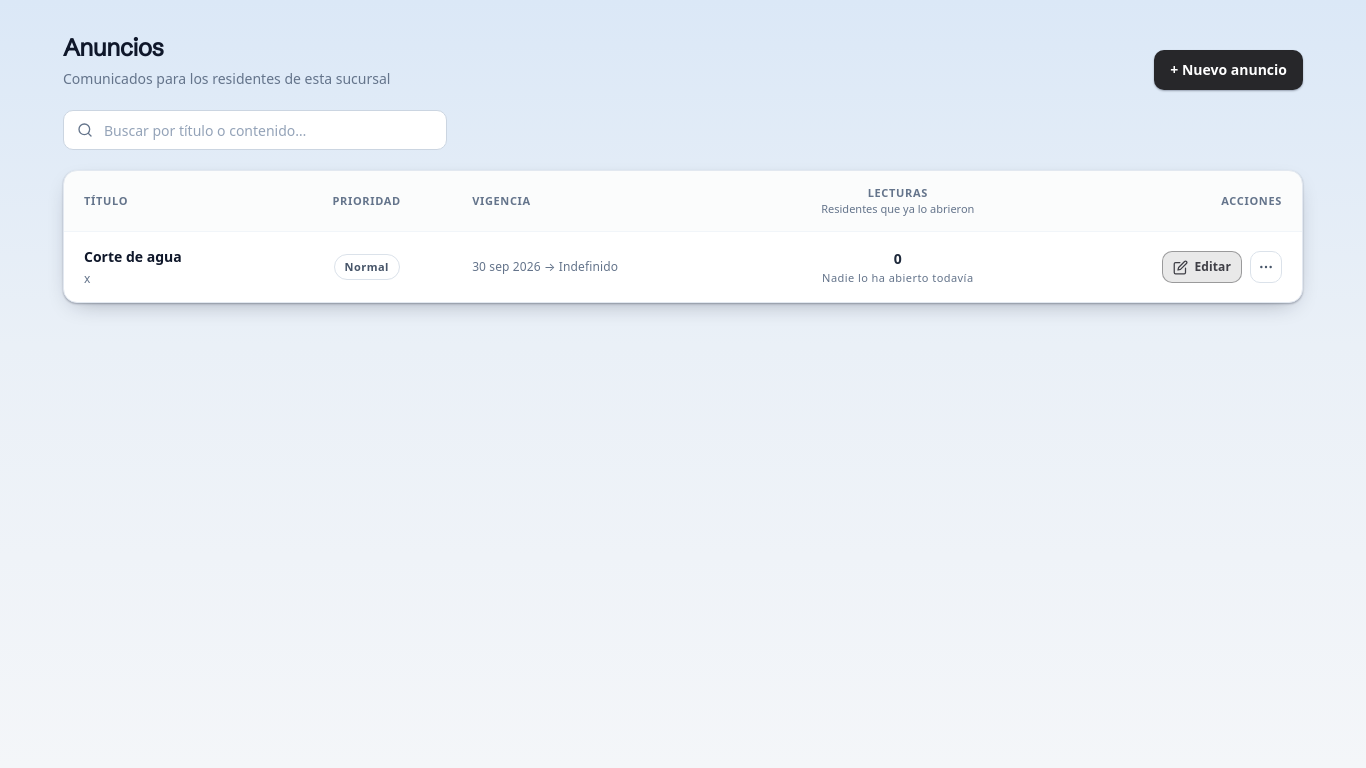
Test case: confirmaciones destructivas › Anuncios: cancelar no borra nada
Click the button named "Acciones: Corte de agua" at (1266, 267), box [1250,251,1282,283]
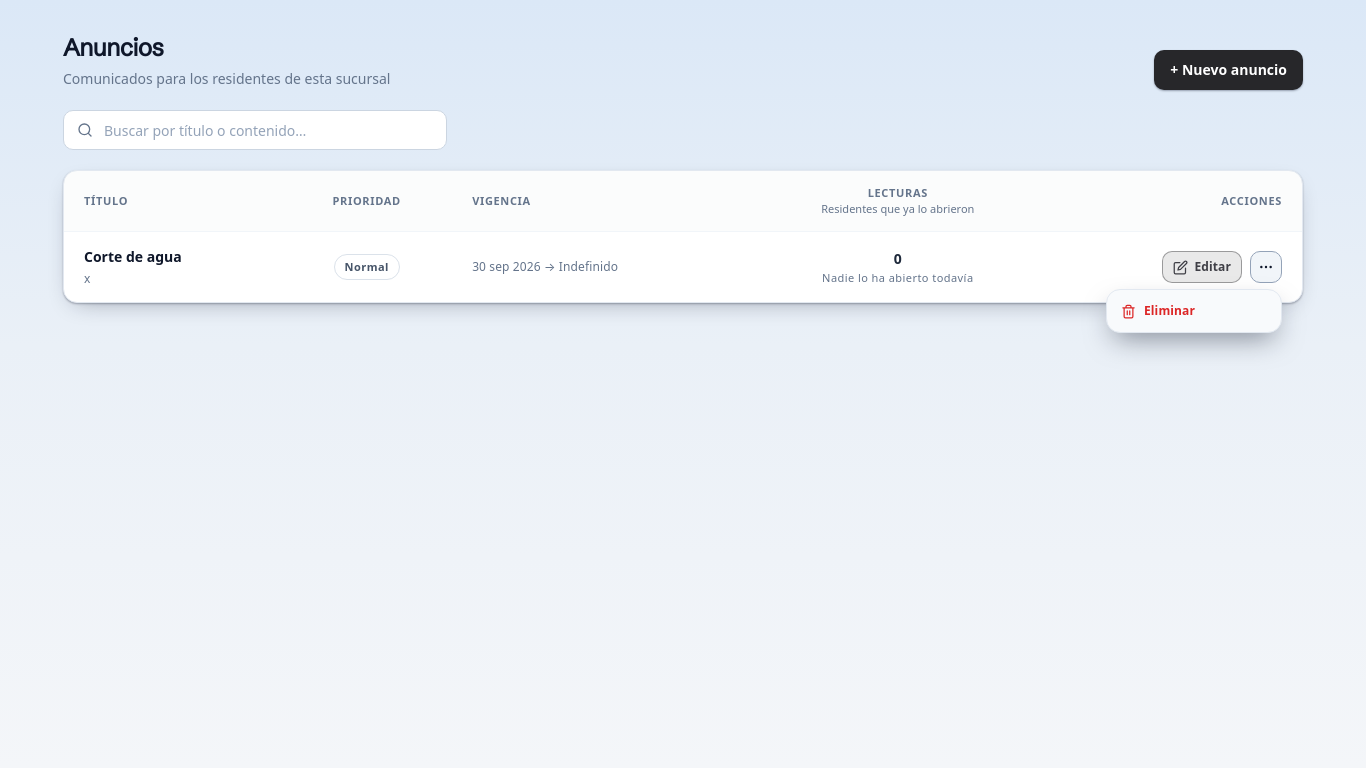
Click the menu item "Eliminar" at (1194, 311), box [1111,294,1277,328]
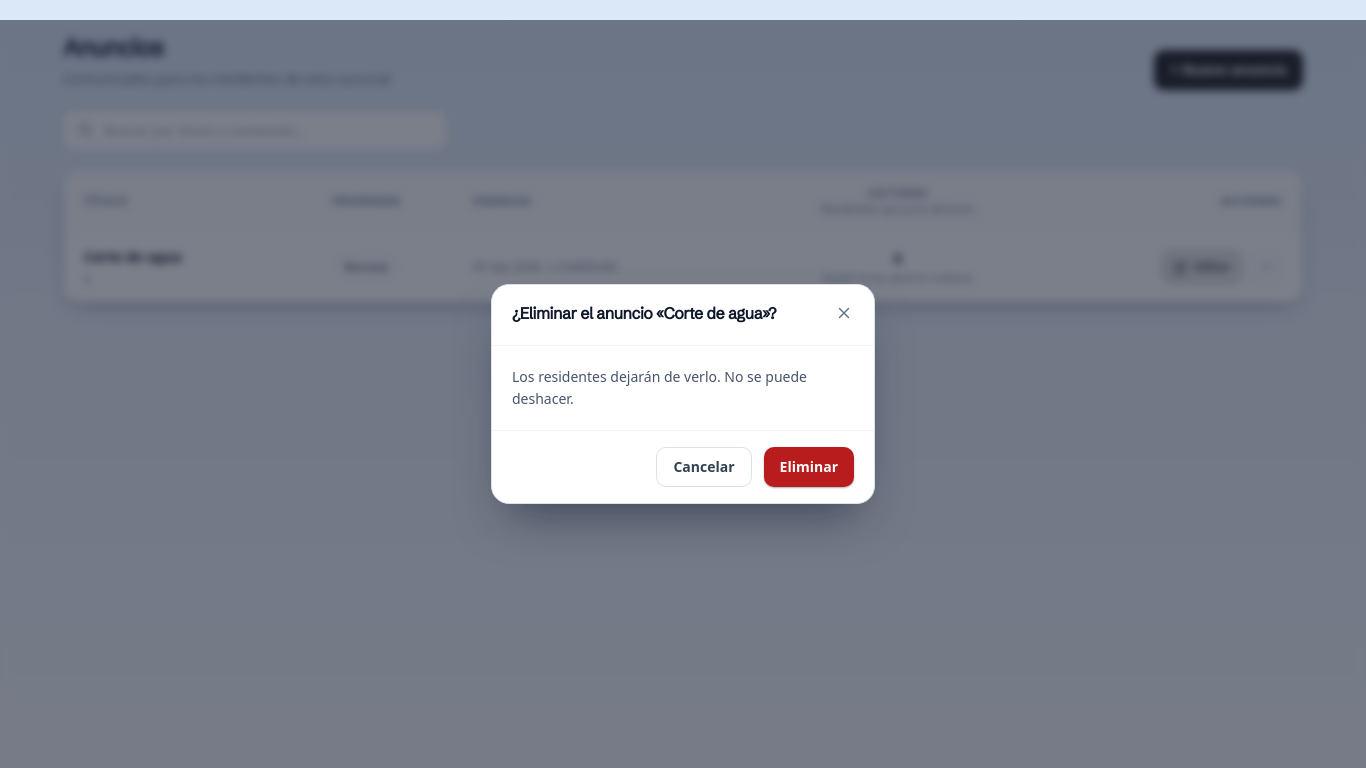
Click the button "Cancelar" at (704, 467), box [656,447,752,487]
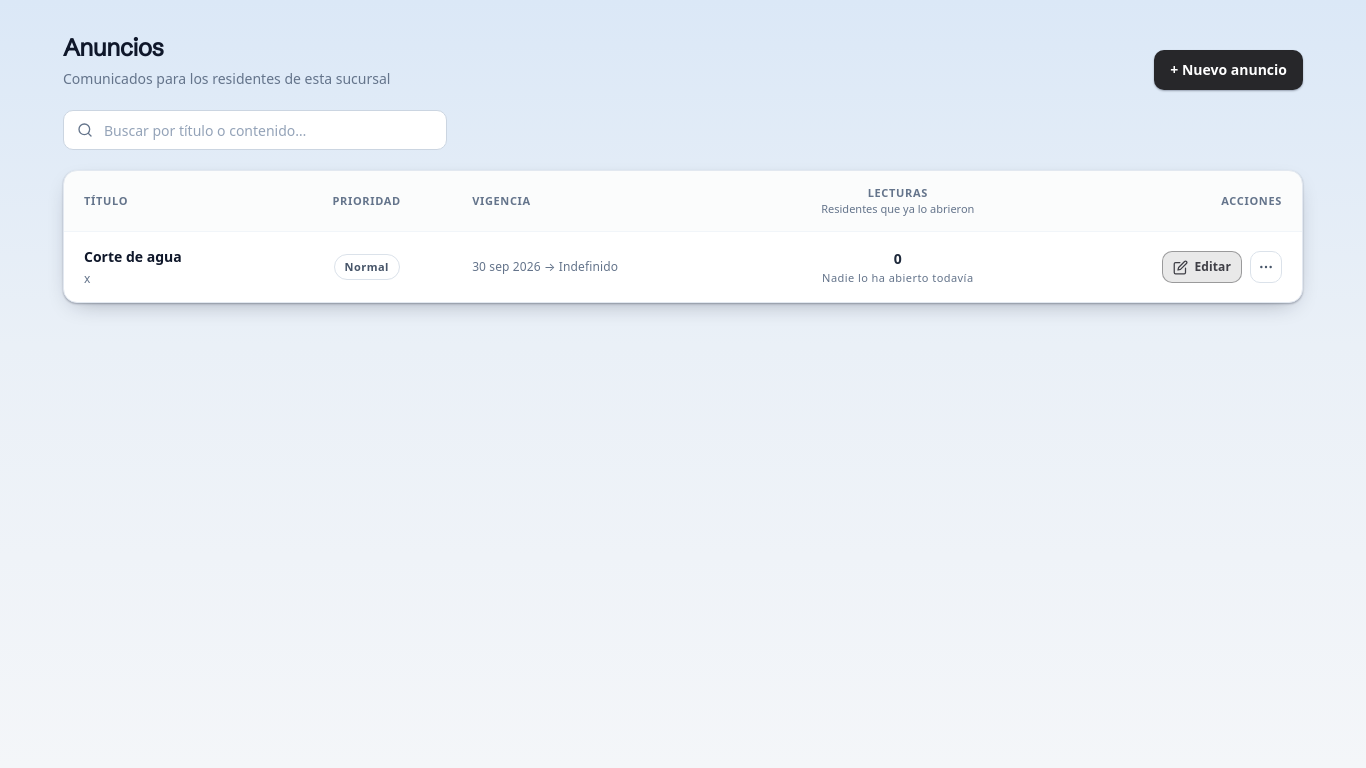
Expected: the dialog is gone
